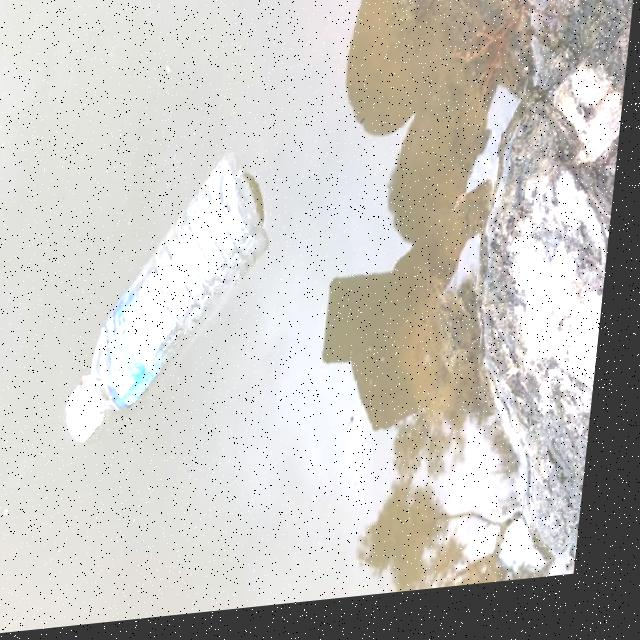waterbottle: (63, 158, 275, 465)
